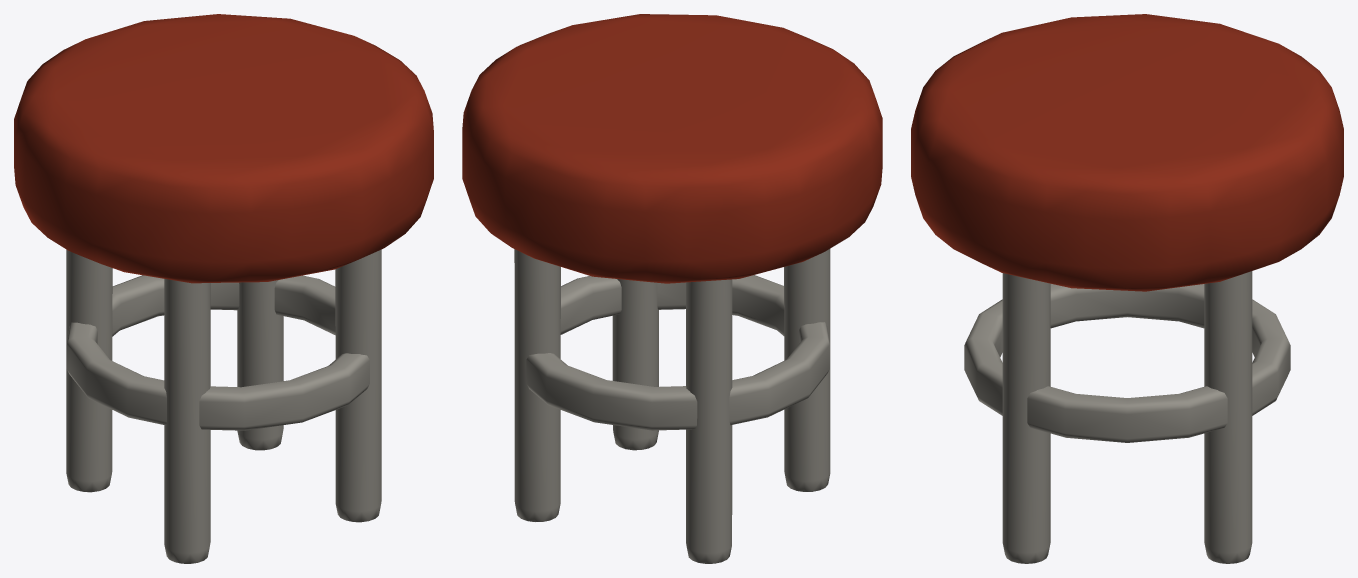
File: stool_08_red.fbx
The picture shows the model from 3 angles, left to right: view 1: azimuth 30°, elevation 25°; view 2: azimuth 150°, elevation 25°; view 3: azimuth 270°, elevation 25°; orthographic projection. The views are drawn at different scales.
Visible parts, largest first — view 1: stool_08_red; view 2: stool_08_red; view 3: stool_08_red.
Boxes of the visible parts, x1,y1,x2,y2 form: stool_08_red: [14, 14, 433, 563]; stool_08_red: [462, 14, 882, 563]; stool_08_red: [911, 14, 1343, 563].
Size of the model in its own units: 39.67 by 42.64 by 39.67.
Materials: 2 (2 with a texture image).
